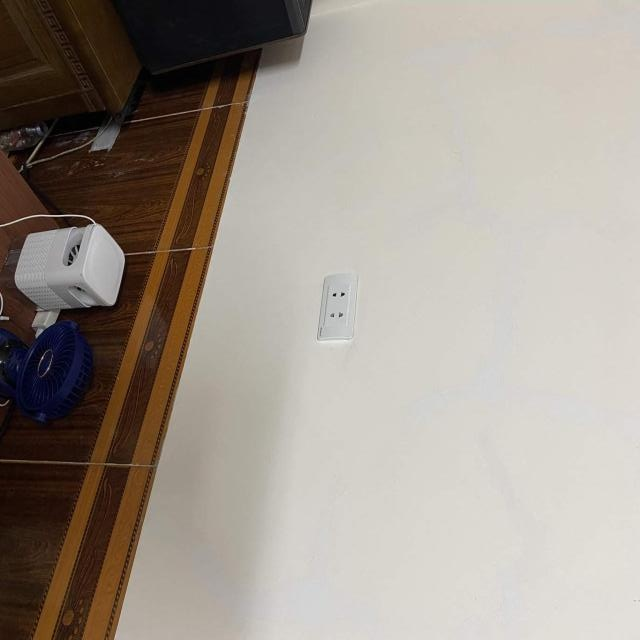outlet: (317, 272, 359, 340)
